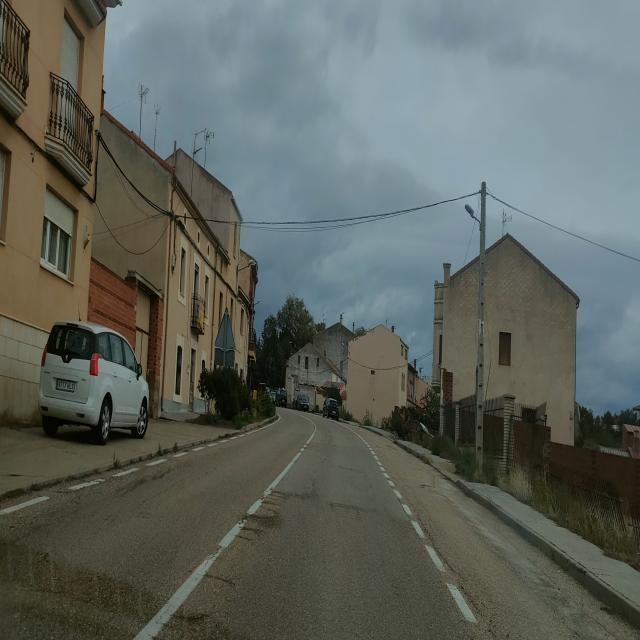Poth-hole: (237, 514, 275, 546), (176, 611, 212, 632), (260, 486, 290, 510), (325, 494, 363, 512), (200, 573, 238, 589), (336, 465, 359, 479)
